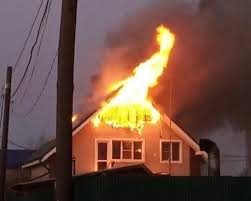fire: (94, 37, 184, 129)
